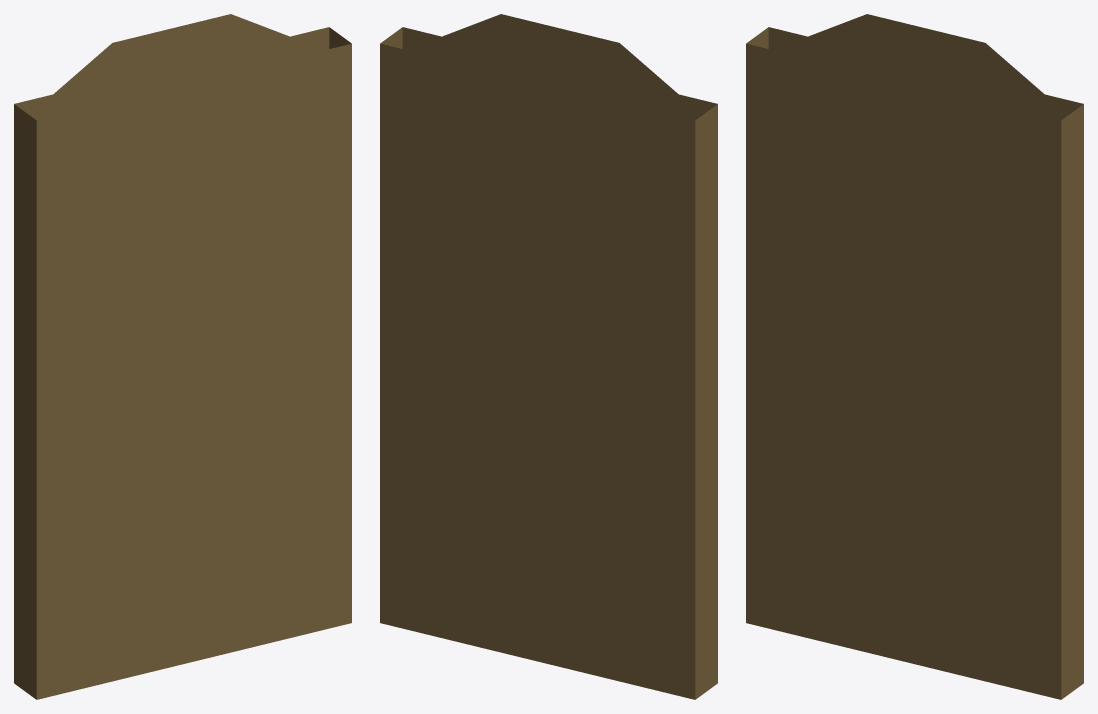
Rendered from Itr_Obj_Grandfatherclock1_Back_01.FBX.
3 views of the same model, side by side, from view 1: azimuth 30°, elevation 25°; view 2: azimuth 150°, elevation 25°; view 3: azimuth 330°, elevation 25° (orthographic).
Visible parts, largest first — view 1: Itr_Obj_Grandfatherclock1_Back_01; view 2: Itr_Obj_Grandfatherclock1_Back_01; view 3: Itr_Obj_Grandfatherclock1_Back_01.
Boxes of the visible parts, box(x1,y1,x2,y2) form: Itr_Obj_Grandfatherclock1_Back_01: box(14, 14, 351, 699); Itr_Obj_Grandfatherclock1_Back_01: box(380, 14, 717, 699); Itr_Obj_Grandfatherclock1_Back_01: box(746, 14, 1083, 699).
Bounding box in the file's own units: 19.3 × 36.07 × 2.41.
